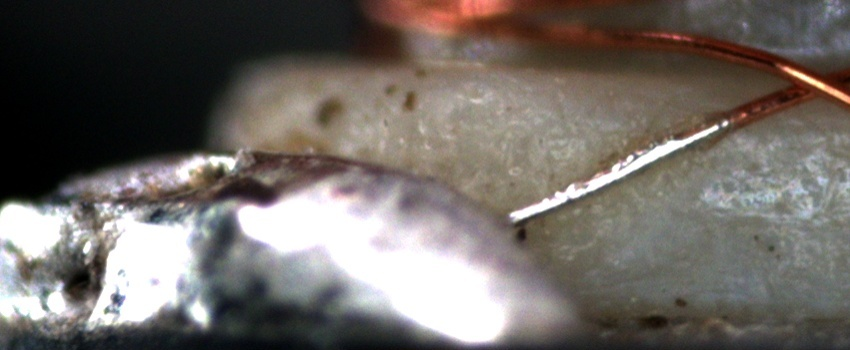CL: (765, 56, 845, 110)
DL: (696, 109, 850, 173)
TS: (505, 115, 731, 221)
